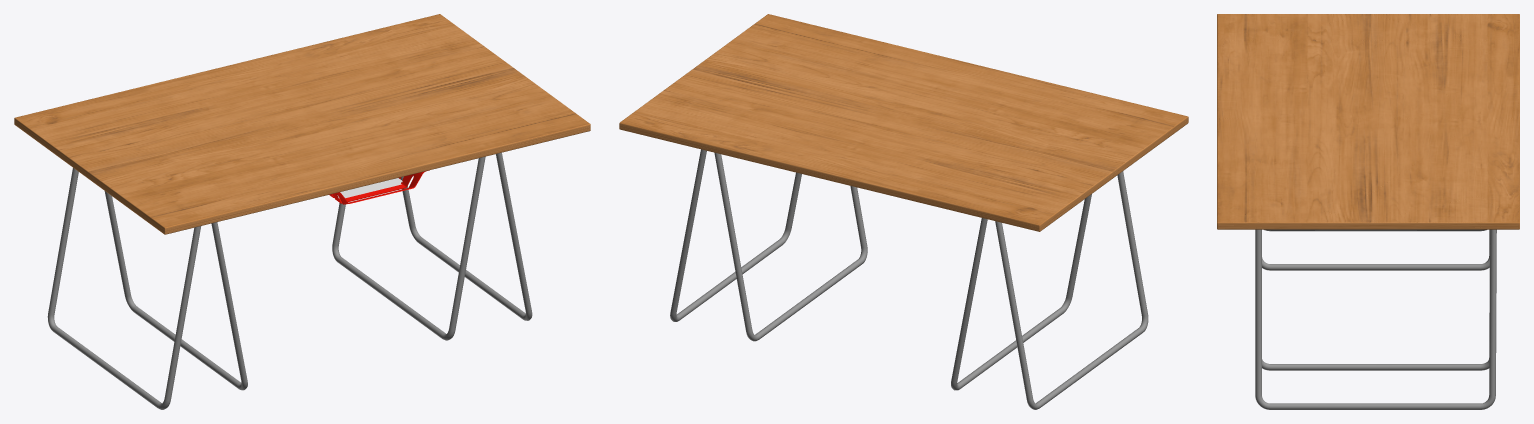
The model's file is table.fbx.
3 views of the same model, side by side, from view 1: azimuth 30°, elevation 25°; view 2: azimuth 150°, elevation 25°; view 3: azimuth 270°, elevation 25° (orthographic).
Parts seen in each view (by area): view 1: table, table_foot, table_foot001, table_basket; view 2: table, table_foot, table_foot001; view 3: table, table_foot001, table_foot.
Part boxes in pixels (box(x1,y1,x2,y2)): table: box(14, 14, 590, 234); table_foot: box(47, 168, 247, 409); table_foot001: box(332, 152, 532, 340); table_basket: box(329, 170, 429, 204); table: box(619, 14, 1188, 231); table_foot: box(951, 171, 1148, 409); table_foot001: box(670, 149, 867, 341); table: box(1217, 14, 1519, 229); table_foot001: box(1255, 229, 1496, 409); table_foot: box(1262, 229, 1489, 270).
Size of the model in its own units: 1.47 by 0.6771 by 0.9.
4 materials, 1 textured.
